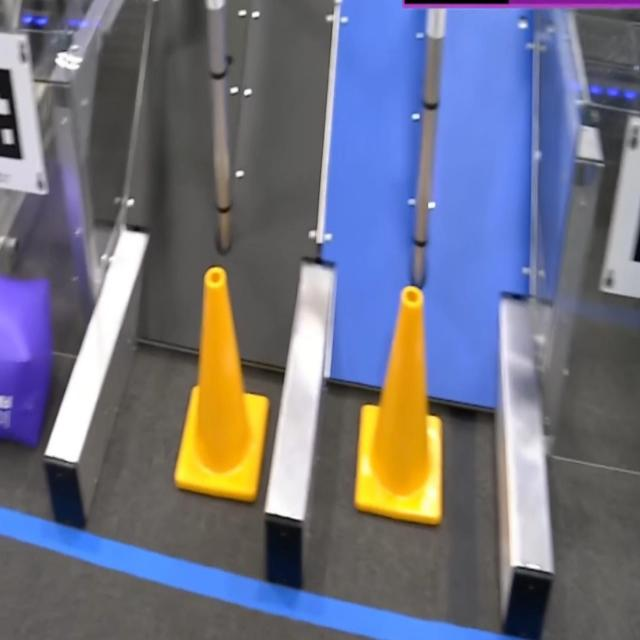frc_cone: (173, 266, 270, 509), (354, 286, 444, 526)
frc_cube: (0, 277, 53, 447)
